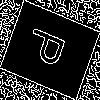P: (24, 24, 75, 73)
